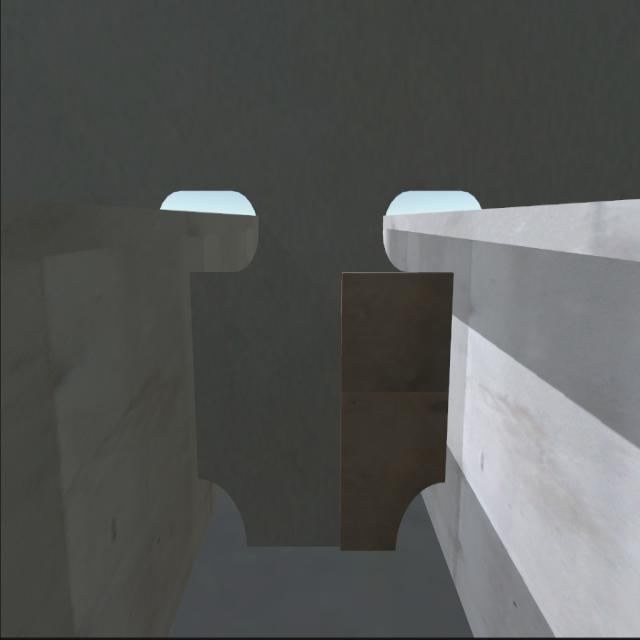fillet_hole: (396, 476, 448, 556), (200, 478, 250, 550)
fillet_yong_jeop_jang: (241, 534, 398, 558)
longi_yong_jeop_jang: (181, 266, 211, 492), (436, 260, 460, 474)
plate_CP01: (338, 265, 454, 553)
